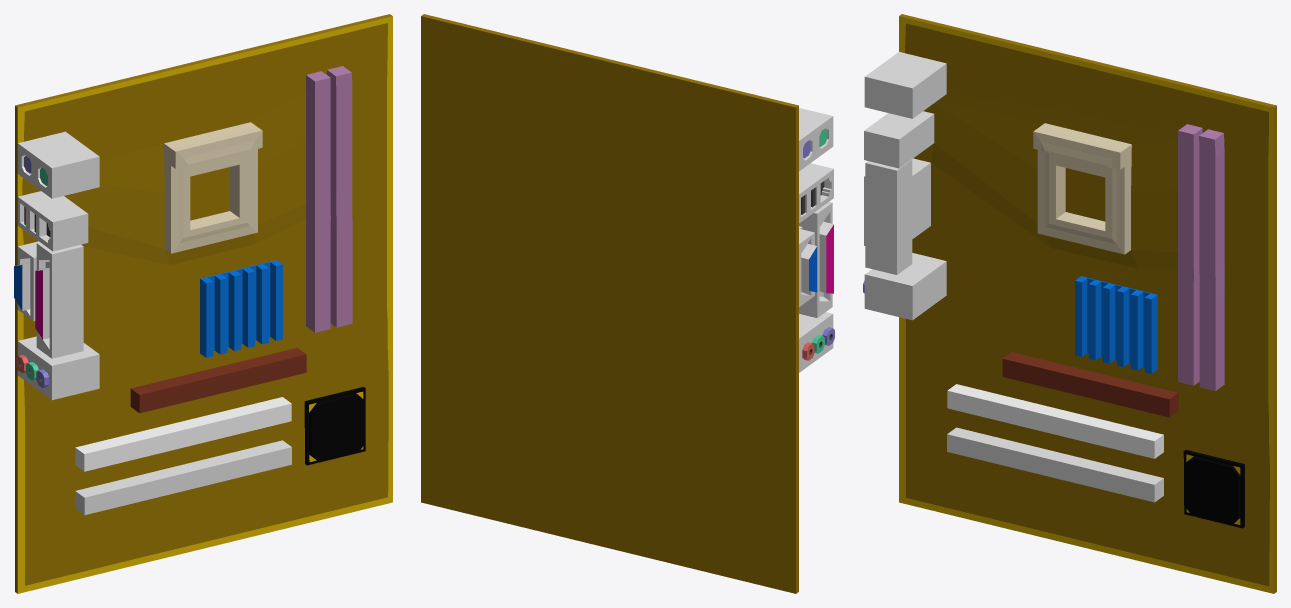
Rendered from mobo_socket-370_1-intel.fbx.
3 views of the same model, side by side, from view 1: azimuth 30°, elevation 25°; view 2: azimuth 150°, elevation 25°; view 3: azimuth 330°, elevation 25° (orthographic).
Visible parts, largest first — view 1: Plane, Plane.001; view 2: Plane; view 3: Plane, Plane.001.
Boxes of the visible parts, bbox=[...] form: Plane: bbox=[14, 14, 392, 593]; Plane.001: bbox=[200, 260, 282, 357]; Plane: bbox=[421, 14, 834, 593]; Plane: bbox=[863, 14, 1276, 593]; Plane.001: bbox=[1075, 276, 1157, 373].
Size of the model in its own units: 160 by 195 by 27.57.
